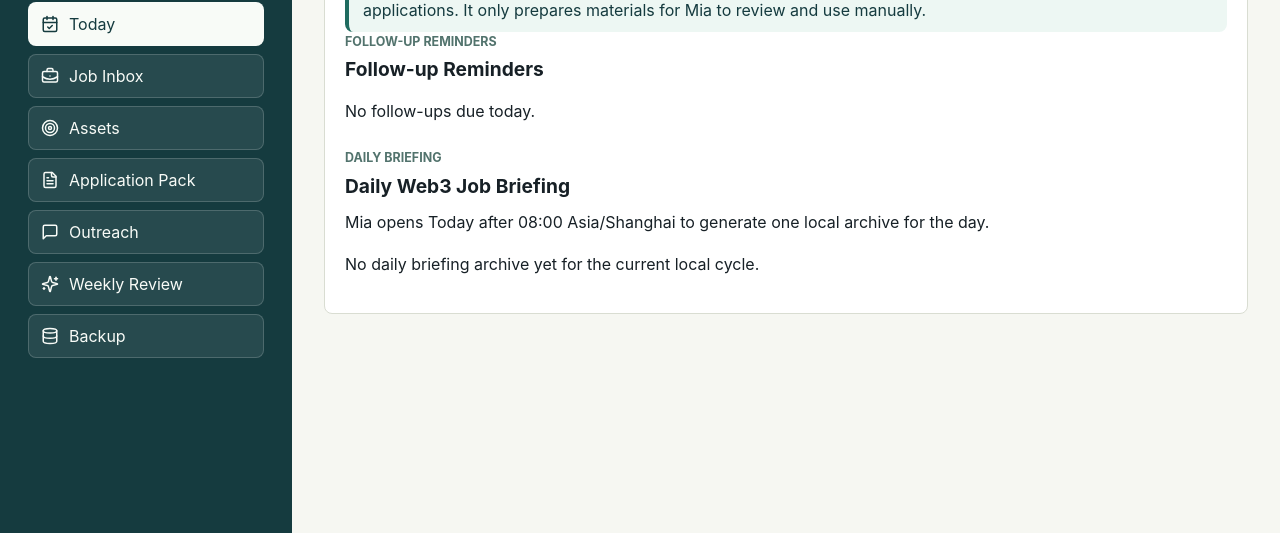
Test case: App › records manual outreach activity as sent manually by Mia
The image size is (1280, 533).
Step 1. Click the button "Outreach" → click(146, 232), box [28, 210, 264, 254]
(page scrolled)
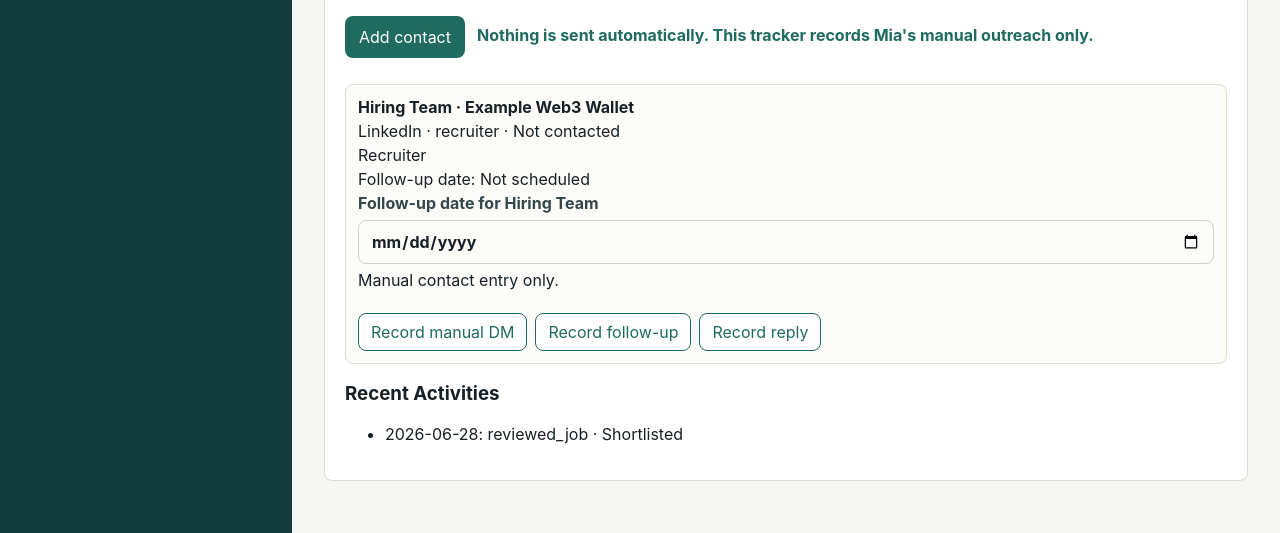
Step 2. Click the button "Record manual DM" → click(443, 332), box [358, 313, 528, 351]
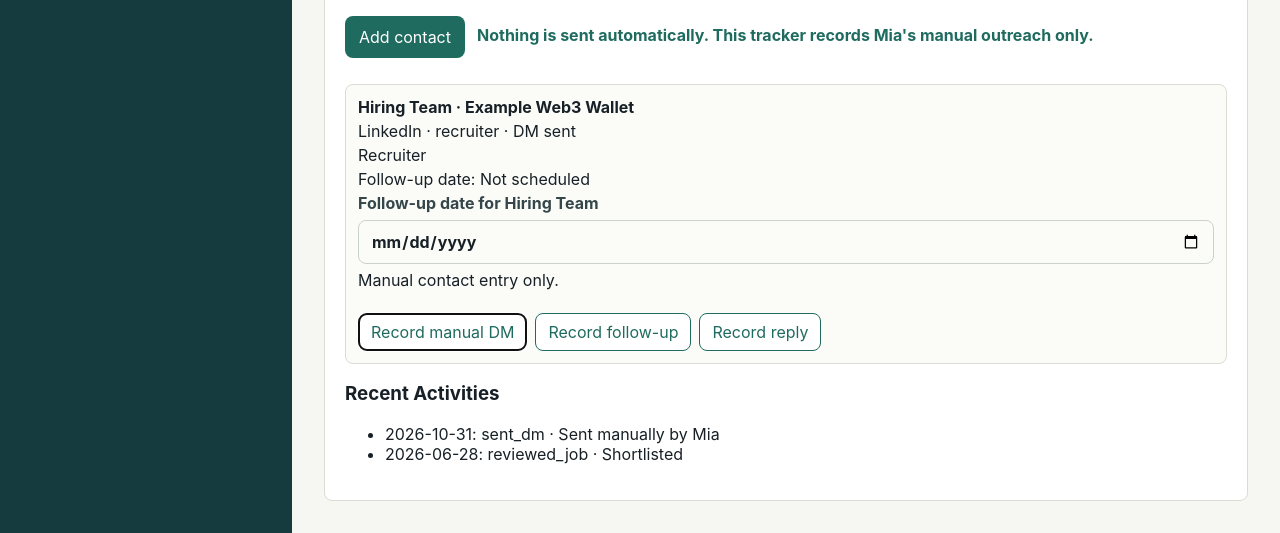
Expected: the list item "2026-10-31: sent_dm · Sent manually by Mia" is shown, [385, 424, 720, 444]
